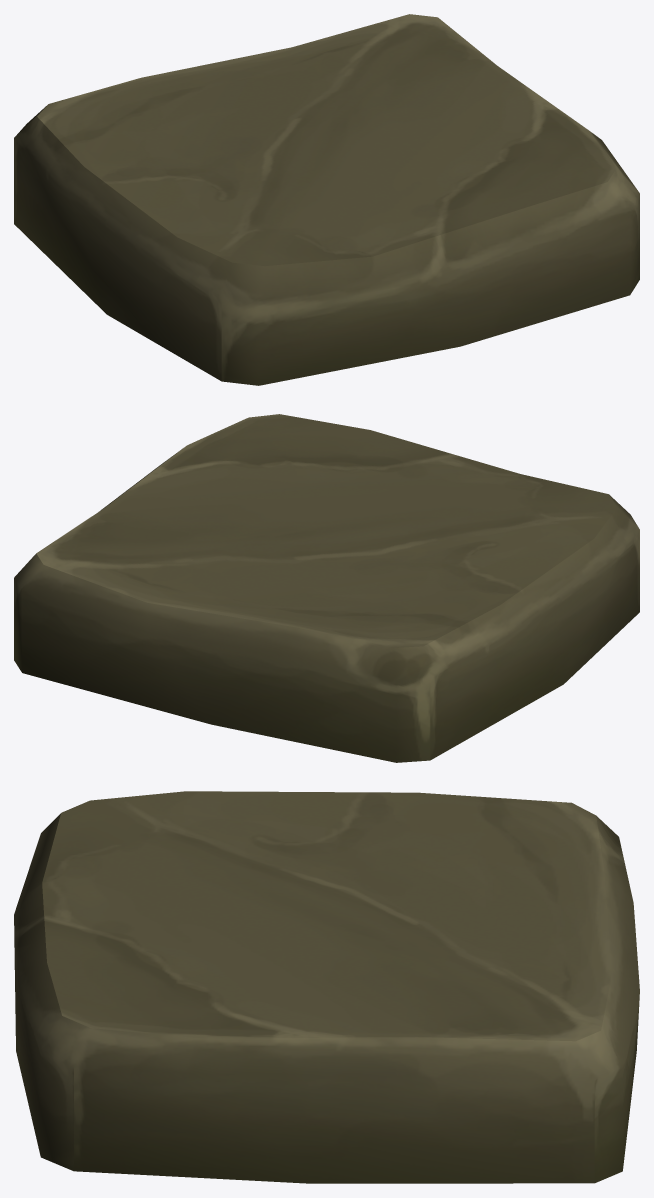
File: Tile_1.FBX
3 views of the same model, one above another, from view 1: azimuth 30°, elevation 25°; view 2: azimuth 150°, elevation 25°; view 3: azimuth 270°, elevation 25° (orthographic). The views are drawn at different scales.
Parts seen in each view (by area): view 1: Tile_1; view 2: Tile_1; view 3: Tile_1.
Boxes of the visible parts, x1,y1,x2,y2 form: Tile_1: [14, 14, 639, 385]; Tile_1: [14, 414, 639, 762]; Tile_1: [14, 791, 639, 1183].
Size of what is drawn, in the model's own units: 128 by 125 by 29.59.
